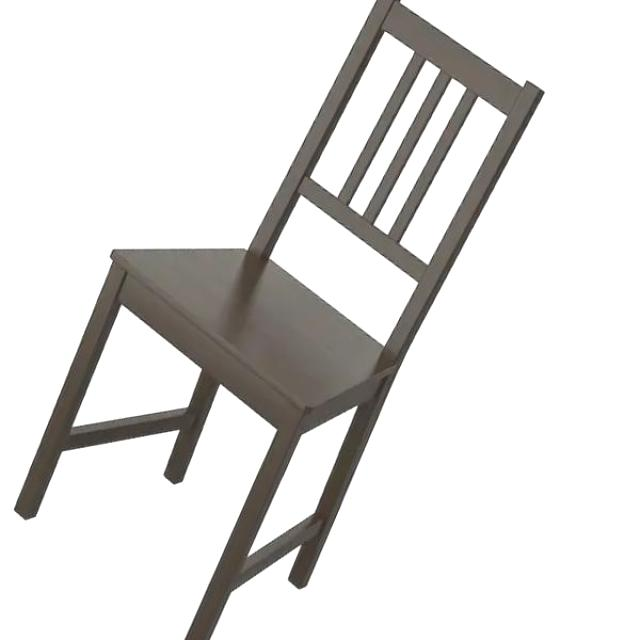Chair: (6, 3, 550, 640)
